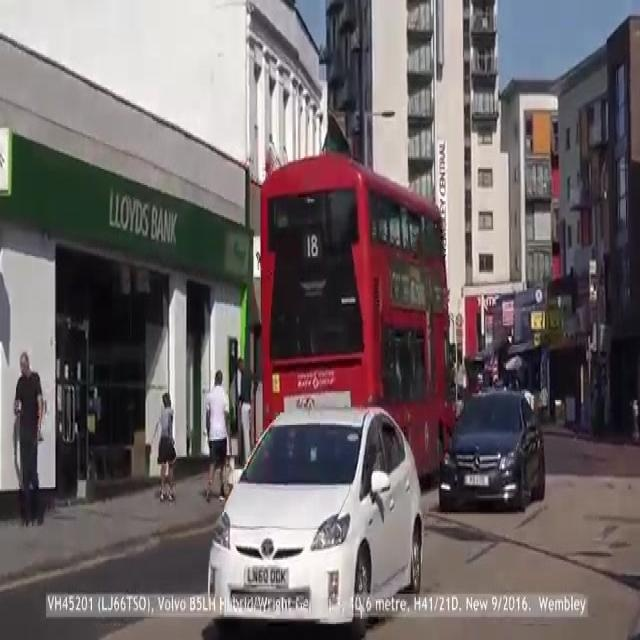Bus: (246, 164, 460, 487)
